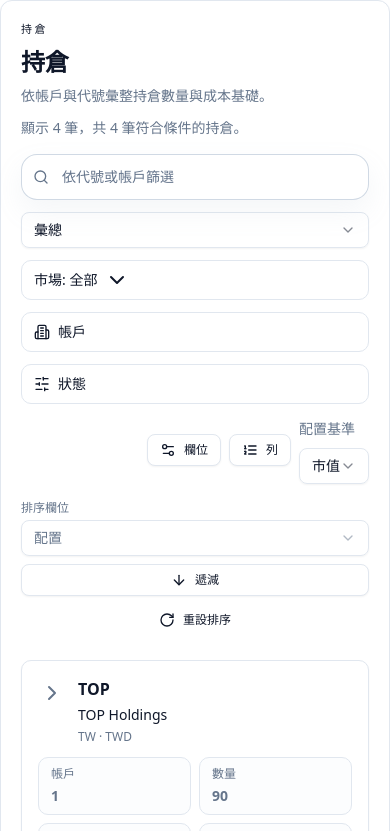
Test: HoldingsTable sorting surface contract › localizes Portfolio mobile and hidden-sort field labels in zh-TW
The image size is (390, 831).
Click the dropdown with test id "holdings-mobile-sort-field".
click(48, 537)  # box [21,520,369,556]
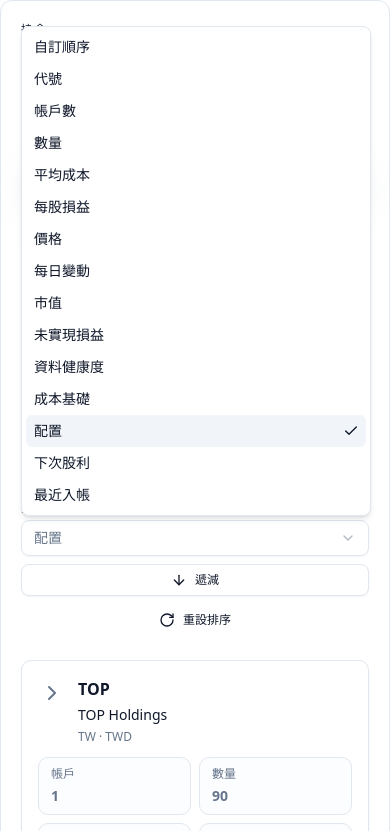
expect the option "配置" is shown: met, box [26,415,366,447]
